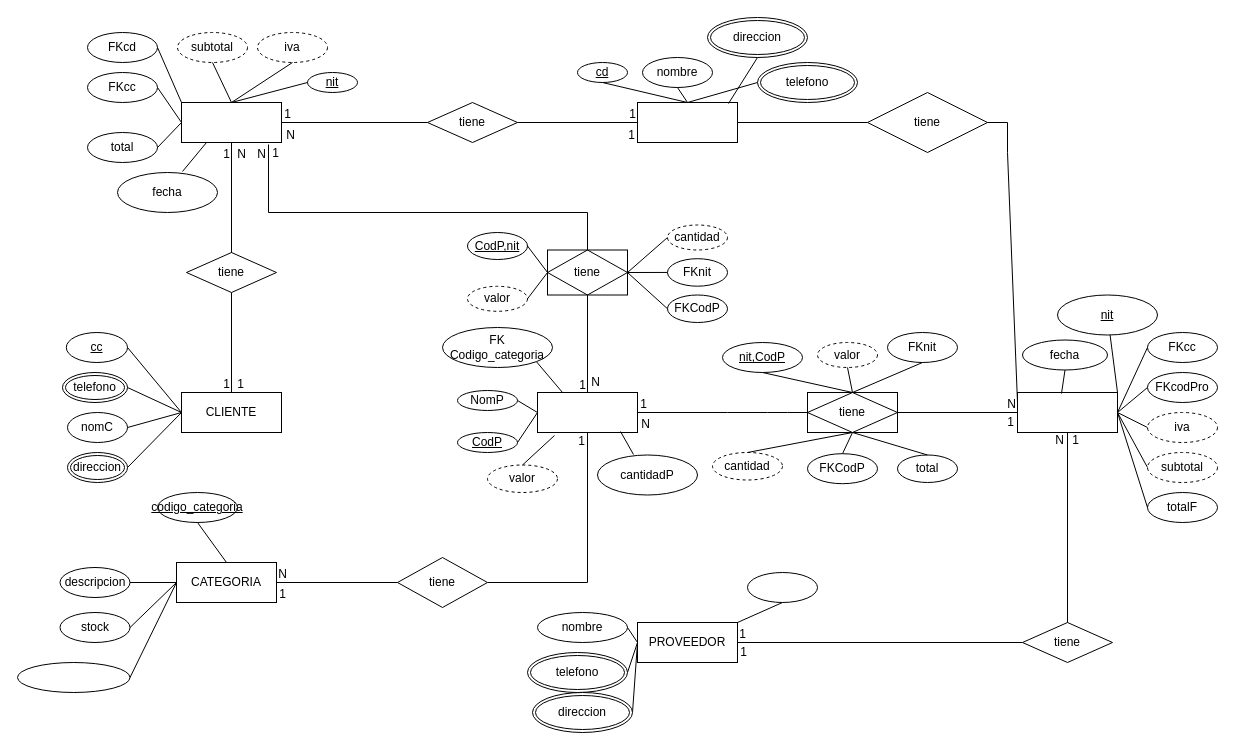
Image size: 1235x750. Some labels were removed from this diagram. Each missing label, with the centre of its shape:
"CodPro" goes at (x=782, y=587).
"EMPLEADO" goes at (x=687, y=122).
"FCOMPRA" goes at (x=1067, y=412).
"FVENTA" goes at (x=231, y=122).
"nombre_categoria" goes at (x=73, y=677).
"PRODUCTO" goes at (x=587, y=412).
